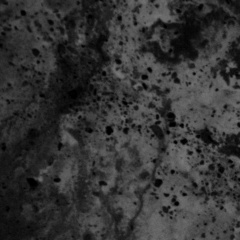Vegetation: (60, 157, 240, 240), (60, 114, 199, 157), (171, 62, 240, 136), (111, 2, 143, 115), (2, 43, 53, 83), (10, 3, 65, 38), (144, 55, 171, 115), (202, 29, 240, 63), (131, 1, 173, 21)
